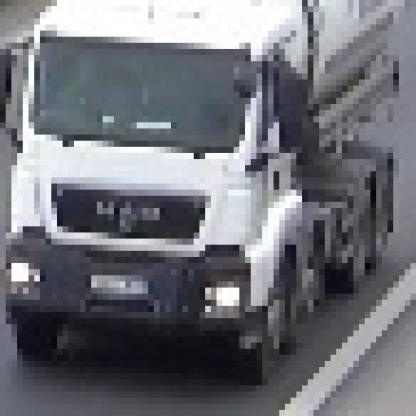truck: (1, 1, 411, 368)
